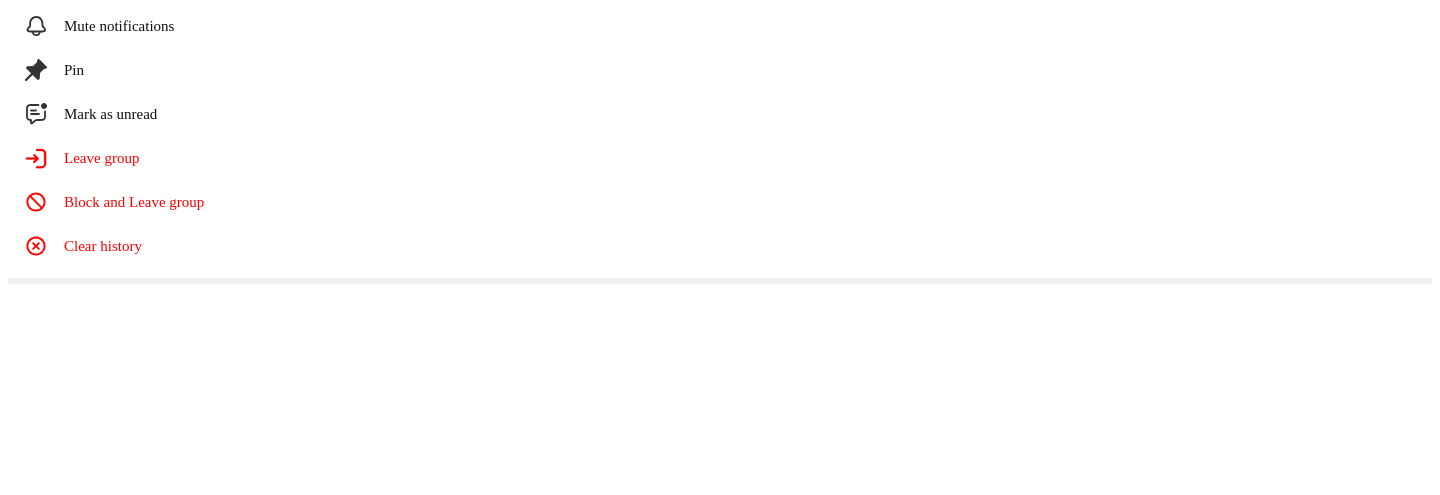
Test: Actions › Action dispatches › clicking Block and Leave opens confirm popup
Click the list item "Block and Leave group". click: coordinates (114, 202)
box: [24,190,204,214]
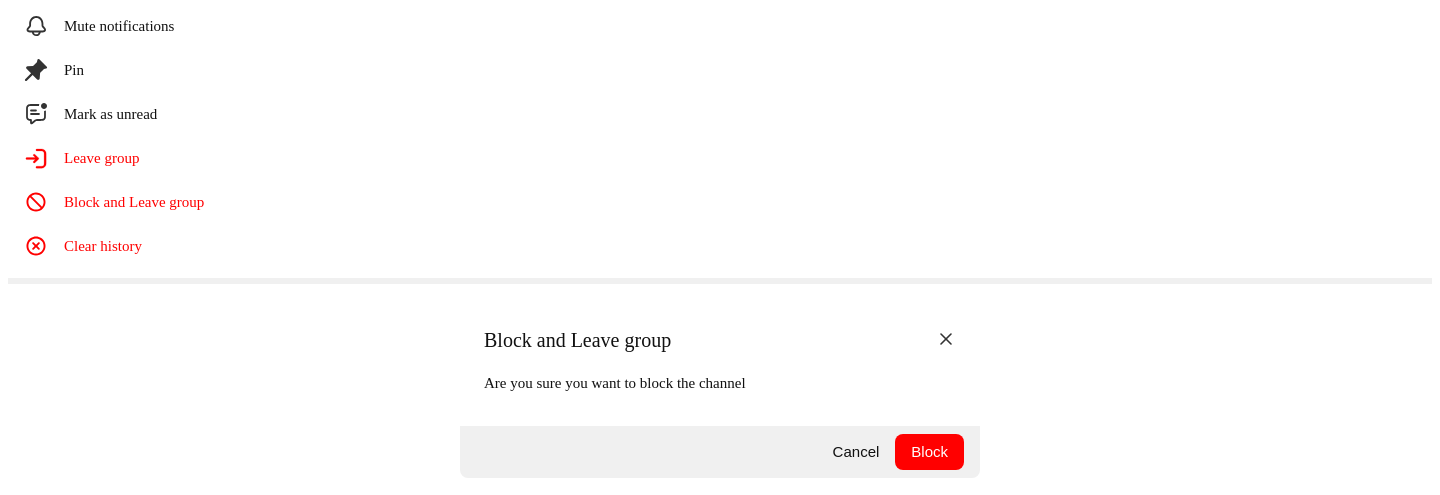
Result: the button "Block" is shown at [895,434,964,470]
